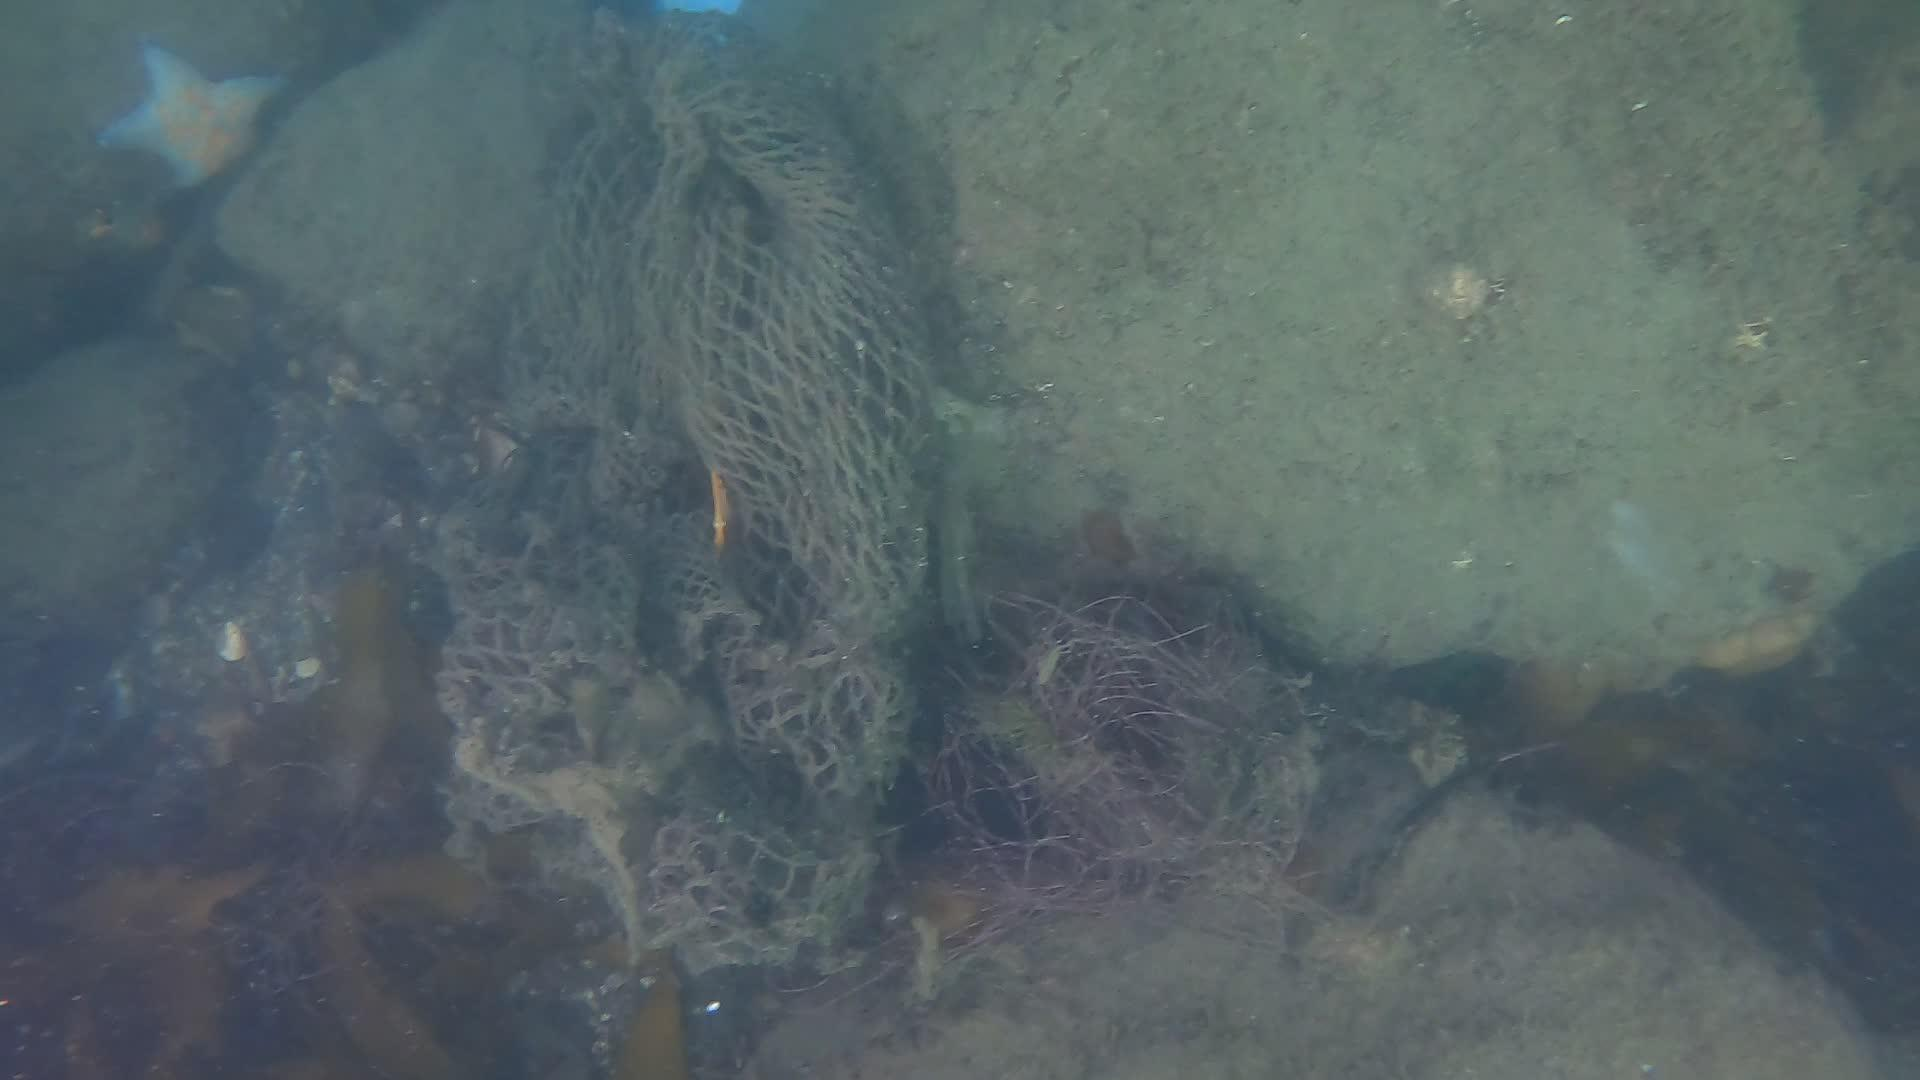fish net: (433, 11, 931, 960)
